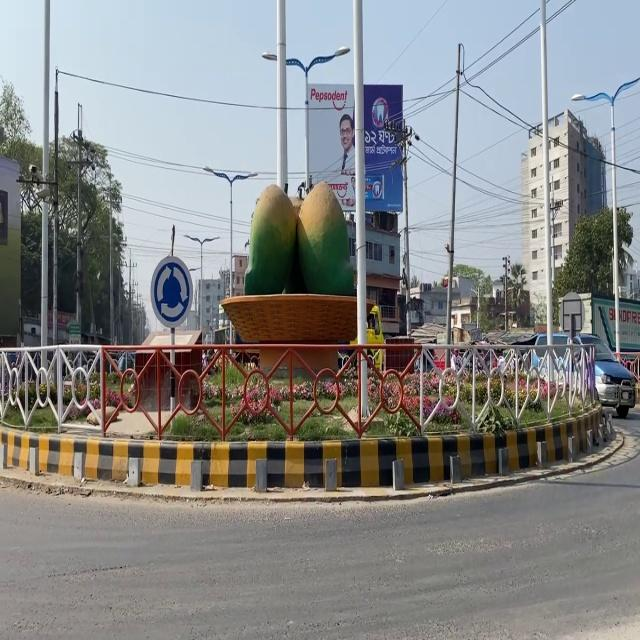Construction-barrier: (0, 403, 617, 492)
Light-pole: (351, 0, 370, 423), (537, 1, 553, 356), (445, 43, 462, 370), (38, 0, 51, 381), (274, 0, 288, 194)
Pothole: (59, 406, 174, 438)
Rickshaw: (149, 255, 192, 327)
Traffic-cone: (337, 302, 385, 374)
